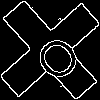O: (25, 25, 85, 86)
